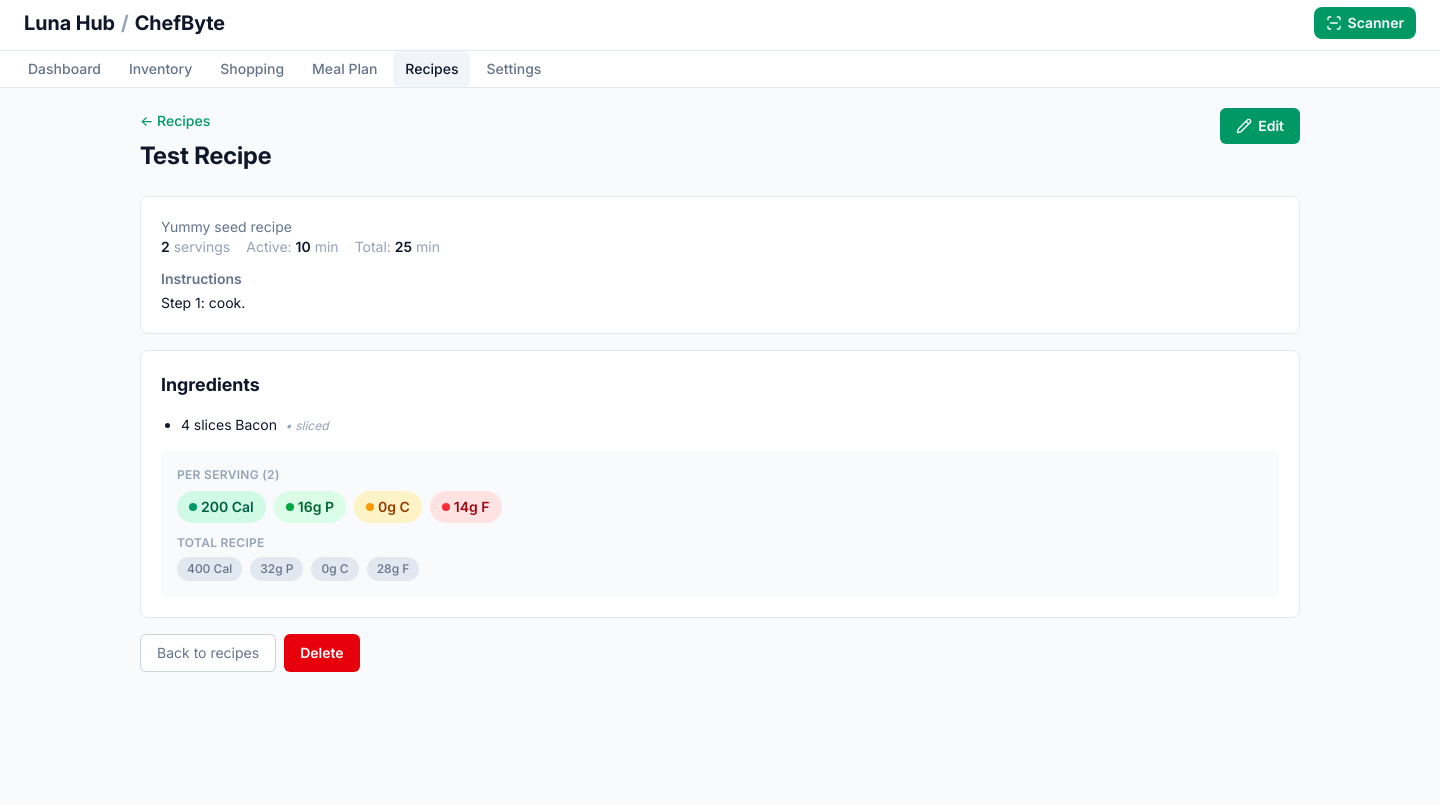
Test: RecipeFormPage — view / edit mode › clicking Edit reveals the edit form; Cancel restores view mode + reverts local edits
// Switch to edit mode.
Click the button with test id "enter-edit-mode-btn" at point(1260, 126), box x1=1220 y1=108 x2=1300 y2=144
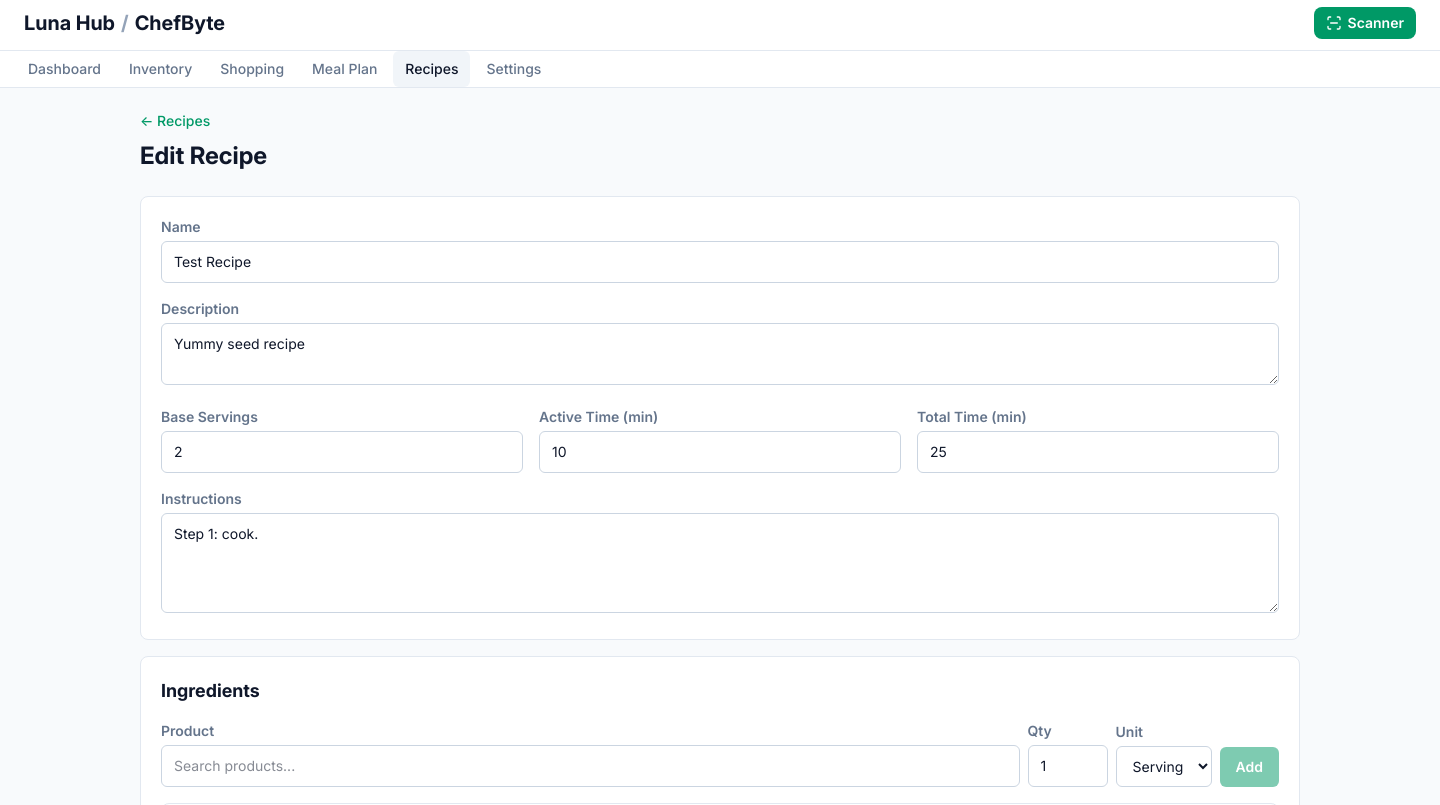
Expected: the field with placeholder "Recipe name" holds "Test Recipe"
// Edit the name then bail with Cancel.
Replace the text in the field with placeholder "Recipe name" with "Different Name" at point(720, 262), box x1=161 y1=241 x2=1279 y2=283
(page scrolled)
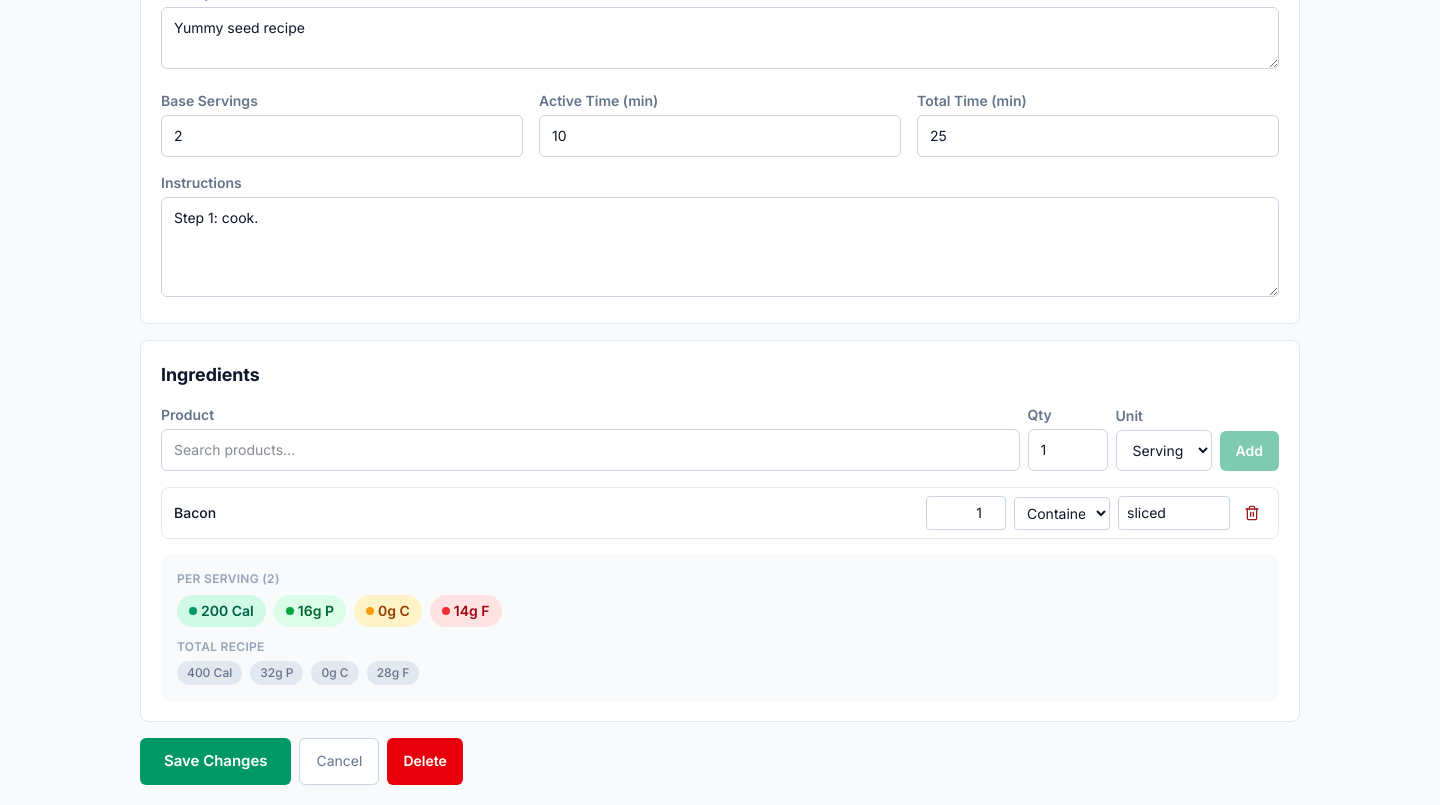
Click the button with test id "cancel-edit-btn" at point(339, 761), box x1=300 y1=738 x2=379 y2=784
(page scrolled)
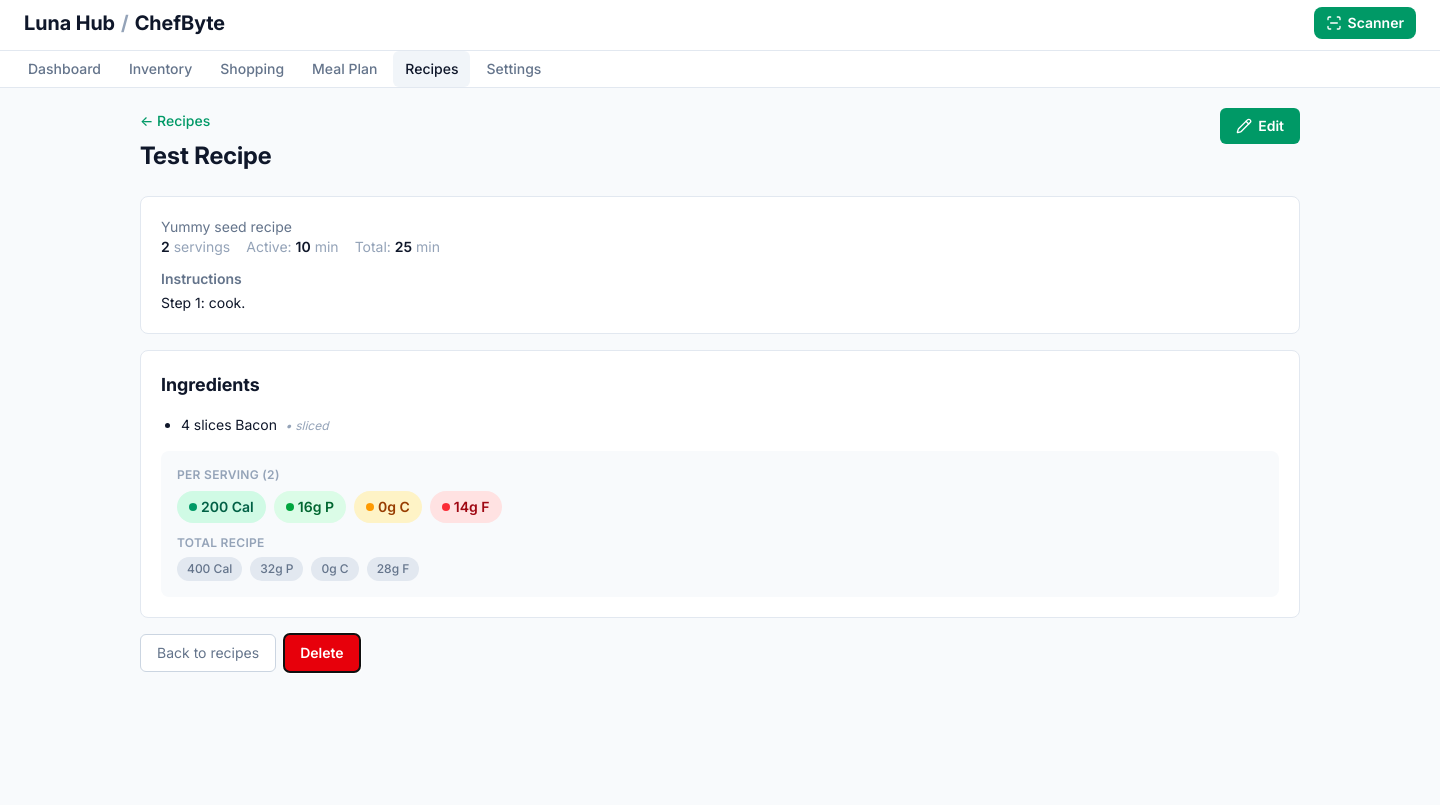
// Re-entering edit mode shows the ORIGINAL name (snapshot revert).
Click the button with test id "enter-edit-mode-btn" at point(1260, 126), box x1=1220 y1=108 x2=1300 y2=144
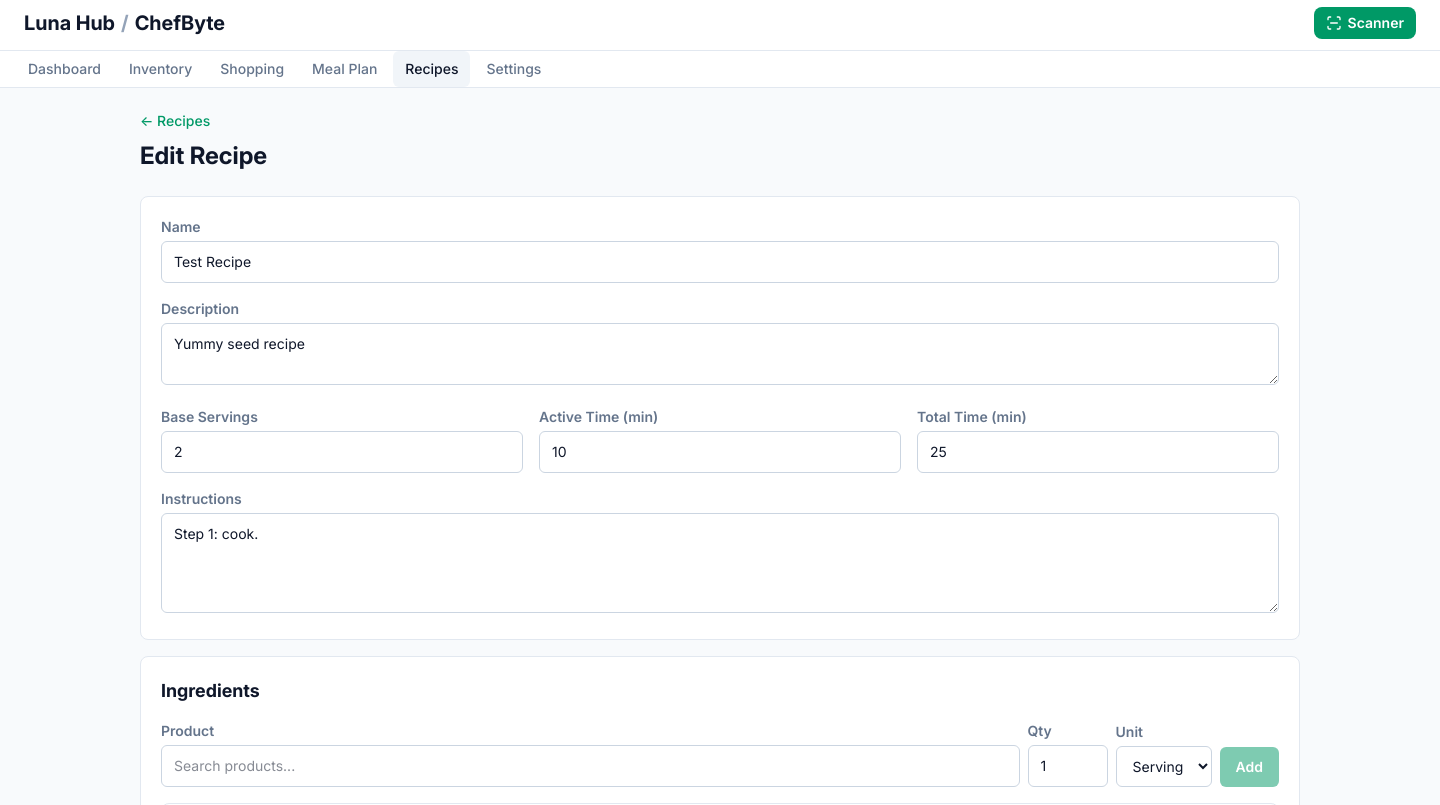
Expected: the field with placeholder "Recipe name" holds "Test Recipe", x1=161 y1=241 x2=1279 y2=283
